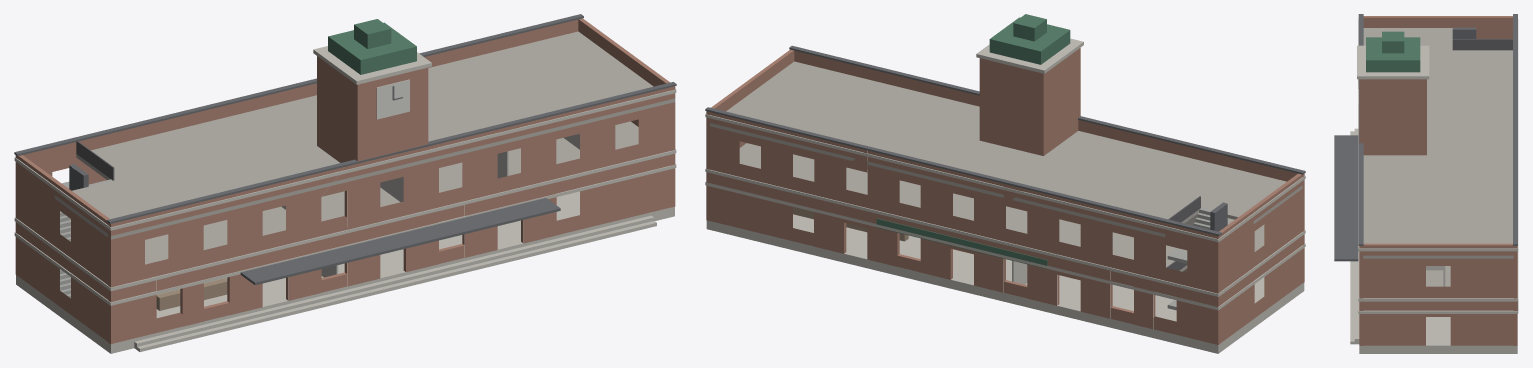
File: rail-station.reveal-v1.lod0.glb
The picture shows the model from 3 angles, left to right: view 1: azimuth 30°, elevation 25°; view 2: azimuth 150°, elevation 25°; view 3: azimuth 270°, elevation 25°; orthographic projection. The views are drawn at different scales.
Visible parts, largest first — view 1: rail-station; view 2: rail-station; view 3: rail-station.
Boxes of the visible parts, bbox=[...] form: rail-station: bbox=[14, 14, 676, 353]; rail-station: bbox=[705, 14, 1305, 353]; rail-station: bbox=[1334, 14, 1518, 353].
Size of the model in its own units: 48.2 by 19.8 by 16.3.
